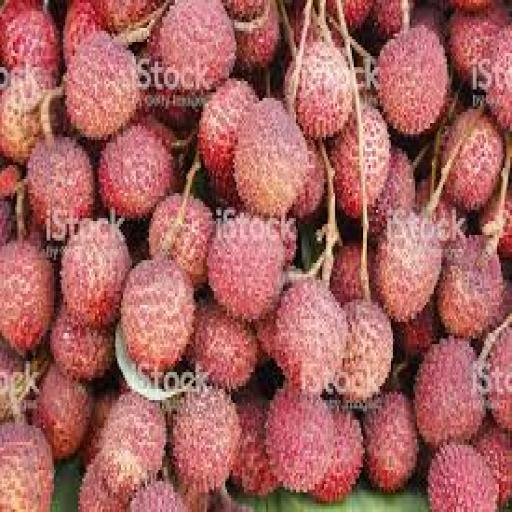lychee: (235, 98, 309, 218), (272, 280, 348, 394), (122, 258, 195, 374), (90, 392, 167, 498), (66, 31, 141, 139), (207, 216, 284, 318), (378, 26, 448, 137), (375, 210, 443, 321), (157, 0, 236, 95), (416, 339, 484, 447), (62, 219, 130, 327), (198, 79, 256, 204), (99, 126, 176, 218), (267, 389, 335, 492), (27, 138, 94, 240), (174, 389, 240, 492), (438, 236, 504, 338), (442, 110, 504, 209), (293, 40, 353, 139), (0, 241, 53, 352), (190, 303, 258, 388), (337, 300, 392, 402), (364, 392, 418, 492), (34, 364, 91, 458), (313, 409, 364, 503), (0, 423, 53, 511), (429, 445, 498, 511), (51, 308, 113, 380), (233, 398, 277, 495), (170, 199, 215, 288), (330, 115, 363, 218)
